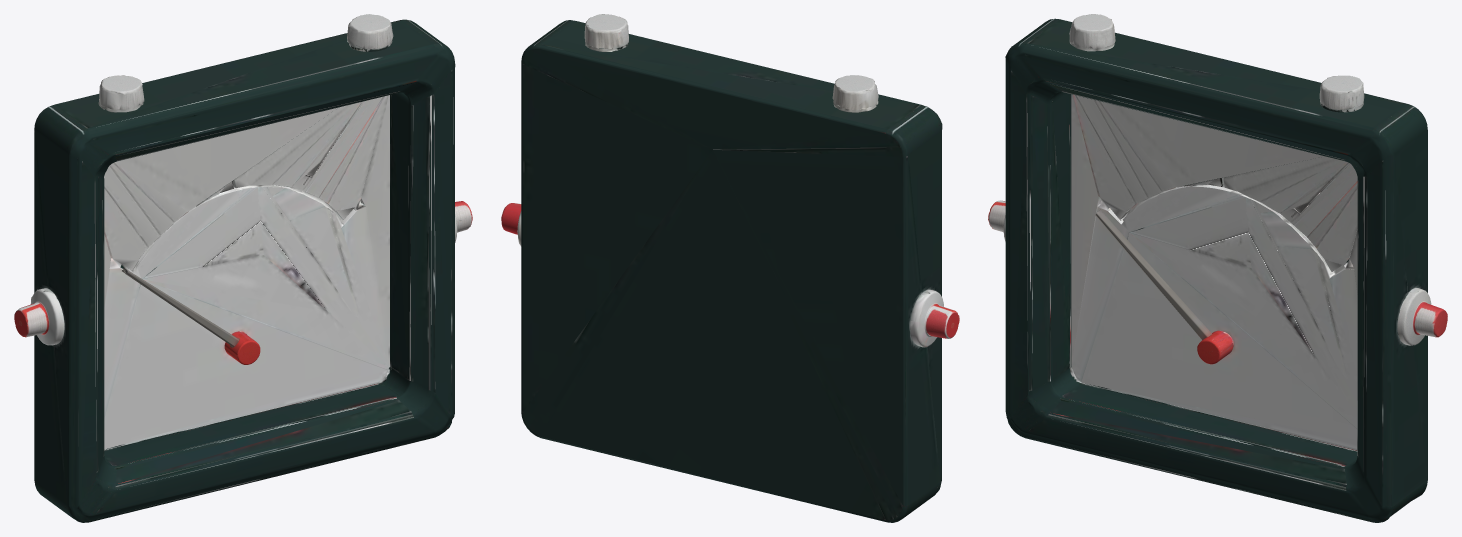
The model's file is voltmeter.glb.
3 views of the same model, side by side, from view 1: azimuth 30°, elevation 25°; view 2: azimuth 150°, elevation 25°; view 3: azimuth 330°, elevation 25° (orthographic).
Bounding box in the file's own units: 0.9512 × 0.8453 × 0.1475.
Materials: 1 (1 with a texture image).
